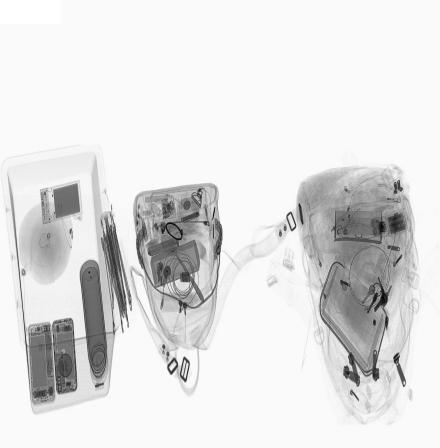Lighter: (376, 194, 402, 205)
